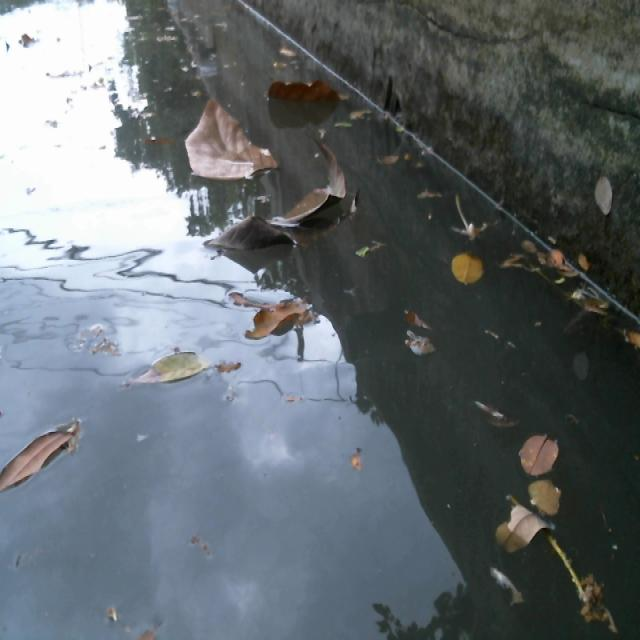Big-leaf: (190, 144, 363, 272), (172, 93, 279, 184), (265, 65, 365, 110)
Small-leaf: (0, 407, 100, 495), (115, 345, 216, 395), (507, 461, 568, 531), (485, 489, 537, 570), (519, 418, 565, 477), (438, 249, 488, 297), (392, 313, 431, 356)
